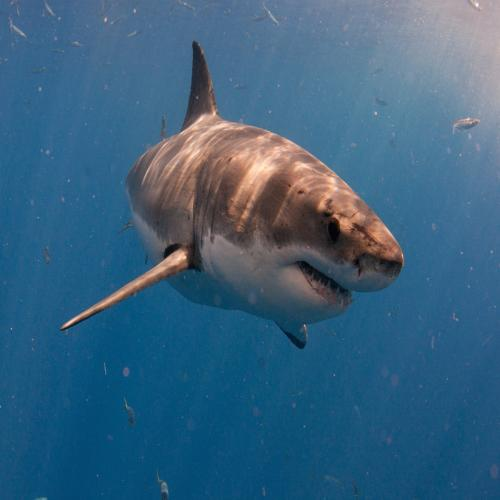shark-endangered: (120, 91, 410, 343)
